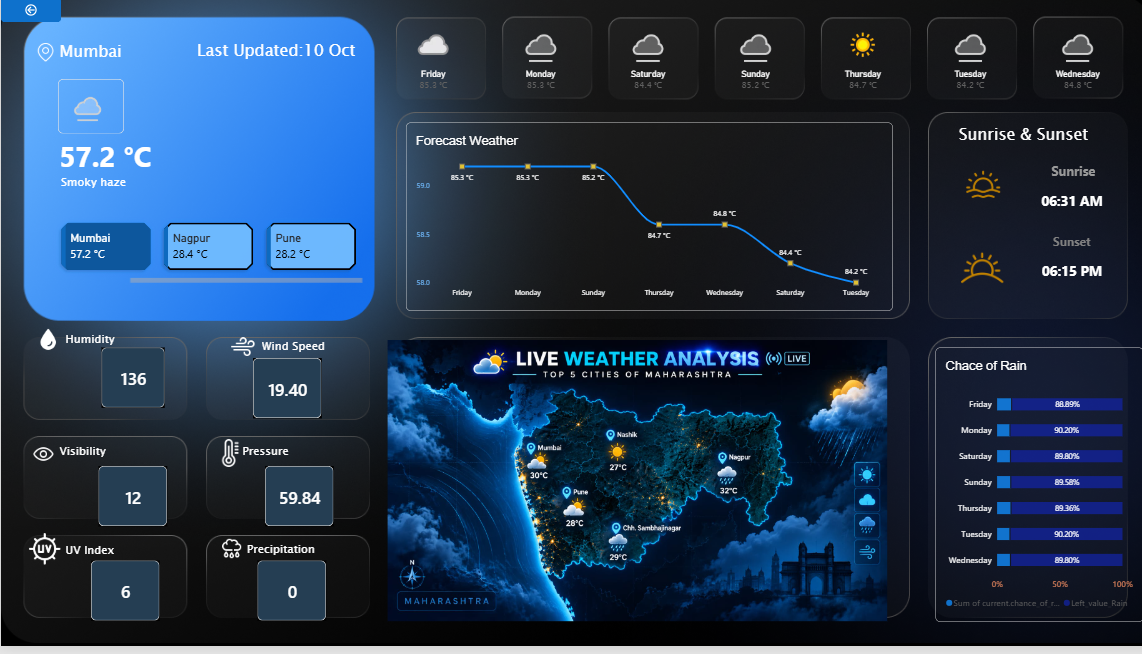

The page's visual inventory and layout, read from the dashboard file:
{"tool":"powerbi","page":{"name":"Page 1","canvas":[1920,1080],"ordinal":0},"visuals":[{"type":"advancedSlicerVisual","fields":{"Values":["locations.location.name"]},"box":[86.7,363.4,515.8,114.9],"z":0},{"type":"shape","box":[98.5,187.6,419.7,150],"z":1000},{"type":"shape","box":[100.8,232.1,419.7,150],"z":2000},{"type":"shape","box":[98.5,14.1,443.1,150],"z":3000},{"type":"shape","box":[150,9.4,440.8,157.1],"z":4000},{"type":"image","box":[25.8,75,98.5,30.5],"z":5000},{"type":"cardVisual","fields":{"Data":["Min(current data.current.condition.icon)"]},"box":[93.8,136,110.2,91.4],"z":6000},{"type":"image","box":[25.8,740.9,91.4,39.9],"z":7000},{"type":"shape","box":[107.8,490,398.6,157.1],"z":8000},{"type":"shape","box":[410.3,839.3,398.6,157.1],"z":9000},{"type":"shape","box":[107.8,841.7,398.6,157.1],"z":10000},{"type":"shape","box":[98.5,677.6,398.6,157.1],"z":11000},{"type":"shape","box":[403.3,677.6,398.6,157.1],"z":12000},{"type":"shape","box":[436.1,501.7,398.6,157.1],"z":13000},{"type":"image","box":[370.4,560.3,65.6,42.2],"z":14000},{"type":"image","box":[61,548.6,37.5,42.2],"z":15000},{"type":"image","box":[344.6,733.8,75,46.9],"z":16000},{"type":"image","box":[37.5,890.9,70.3,56.3],"z":17000},{"type":"image","box":[356.4,897.9,53.9,39.9],"z":18000},{"type":"actionButton","box":[0,0,100,40],"z":19000},{"type":"cardVisual","fields":{"Data":["Sum(current data.current.humidity)"]},"box":[166.5,581.4,105.5,100.8],"z":20000},{"type":"cardVisual","fields":{"Data":["_Measure.Wind_Speed"]},"box":[419.7,600.2,114.9,100.8],"z":21000},{"type":"cardVisual","fields":{"Data":["Sum(current data.current.pressure_in)"]},"box":[440.8,780.7,114.9,100.8],"z":22000},{"type":"cardVisual","fields":{"Data":["Sum(current data.current.precip_mm)"]},"box":[426.7,937.8,114.9,100.8],"z":23000},{"type":"cardVisual","fields":{"Data":["Sum(current data.current.vis_miles)"]},"box":[161.8,780.7,114.9,100.8],"z":24000},{"type":"cardVisual","fields":{"Data":["Sum(current data.current.uv)"]},"box":[150,937.8,114.9,100.8],"z":25000},{"type":"lineChart","title":"Forecast Weather","fields":{"Category":["forcast day.Day_Name"],"Y":["Sum(forcast day.forecast.forecastday.day.avgtemp_c)"]},"box":[675.2,206.3,811.2,314.2],"z":26000},{"type":"advancedSlicerVisual","fields":{"Values":["forcast day.Day_Name"]},"box":[635.4,39.9,1249.6,124.3],"z":27000},{"type":"shape","box":[1505.2,150,398.6,157.1],"z":28000},{"type":"shape","box":[1685.7,286,199.3,105.5],"z":28001},{"type":"shape","box":[1685.7,407.9,199.3,93.8],"z":28002},{"type":"shape","box":[1688,234.4,199.3,105.5],"z":28003},{"type":"shape","box":[1685.7,363.4,199.3,86.7],"z":28004},{"type":"image","box":[1584.9,403.3,100.8,93.8],"z":28005},{"type":"image","box":[1589.6,283.7,93.8,56.3],"z":28006},{"type":"hundredPercentStackedBarChart","title":"Chace of Rain","fields":{"Category":["forcast day.Day_Name"],"Y":["Sum(current data.current.chance_of_rain)","_Measure.Left_value_Rain"]},"box":[1556.7,581.4,347,457.2],"z":28007},{"type":"image","box":[635.4,569.7,851,468.9],"z":28010}]}

Visuals, with their boxes in screenshot pixels (x1, y1, x2, y2), scaled from the page's 1920x1080 canvas onto the 1142x654 screenshot:
advancedSlicerVisual - locations.location.name: [left=52, top=220, right=358, bottom=290]
shape: [left=59, top=114, right=308, bottom=204]
shape: [left=60, top=141, right=310, bottom=231]
shape: [left=59, top=9, right=322, bottom=99]
shape: [left=89, top=6, right=351, bottom=101]
image: [left=15, top=45, right=74, bottom=64]
cardVisual - Min(current data.current.condition.icon): [left=56, top=82, right=121, bottom=138]
image: [left=15, top=449, right=70, bottom=473]
shape: [left=64, top=297, right=301, bottom=392]
shape: [left=244, top=508, right=481, bottom=603]
shape: [left=64, top=510, right=301, bottom=605]
shape: [left=59, top=410, right=296, bottom=505]
shape: [left=240, top=410, right=477, bottom=505]
shape: [left=259, top=304, right=496, bottom=399]
image: [left=220, top=339, right=259, bottom=365]
image: [left=36, top=332, right=59, bottom=358]
image: [left=205, top=444, right=250, bottom=473]
image: [left=22, top=539, right=64, bottom=574]
image: [left=212, top=544, right=244, bottom=568]
actionButton: [left=0, top=0, right=59, bottom=24]
cardVisual - Sum(current data.current.humidity): [left=99, top=352, right=162, bottom=413]
cardVisual - _Measure.Wind_Speed: [left=250, top=363, right=318, bottom=424]
cardVisual - Sum(current data.current.pressure_in): [left=262, top=473, right=331, bottom=534]
cardVisual - Sum(current data.current.precip_mm): [left=254, top=568, right=322, bottom=629]
cardVisual - Sum(current data.current.vis_miles): [left=96, top=473, right=165, bottom=534]
cardVisual - Sum(current data.current.uv): [left=89, top=568, right=158, bottom=629]
"Forecast Weather" lineChart: [left=402, top=125, right=884, bottom=315]
advancedSlicerVisual - forcast day.Day_Name: [left=378, top=24, right=1121, bottom=99]
shape: [left=895, top=91, right=1132, bottom=186]
shape: [left=1003, top=173, right=1121, bottom=237]
shape: [left=1003, top=247, right=1121, bottom=304]
shape: [left=1004, top=142, right=1123, bottom=206]
shape: [left=1003, top=220, right=1121, bottom=273]
image: [left=943, top=244, right=1003, bottom=301]
image: [left=945, top=172, right=1001, bottom=206]
"Chace of Rain" hundredPercentStackedBarChart: [left=926, top=352, right=1132, bottom=629]
image: [left=378, top=345, right=884, bottom=629]
